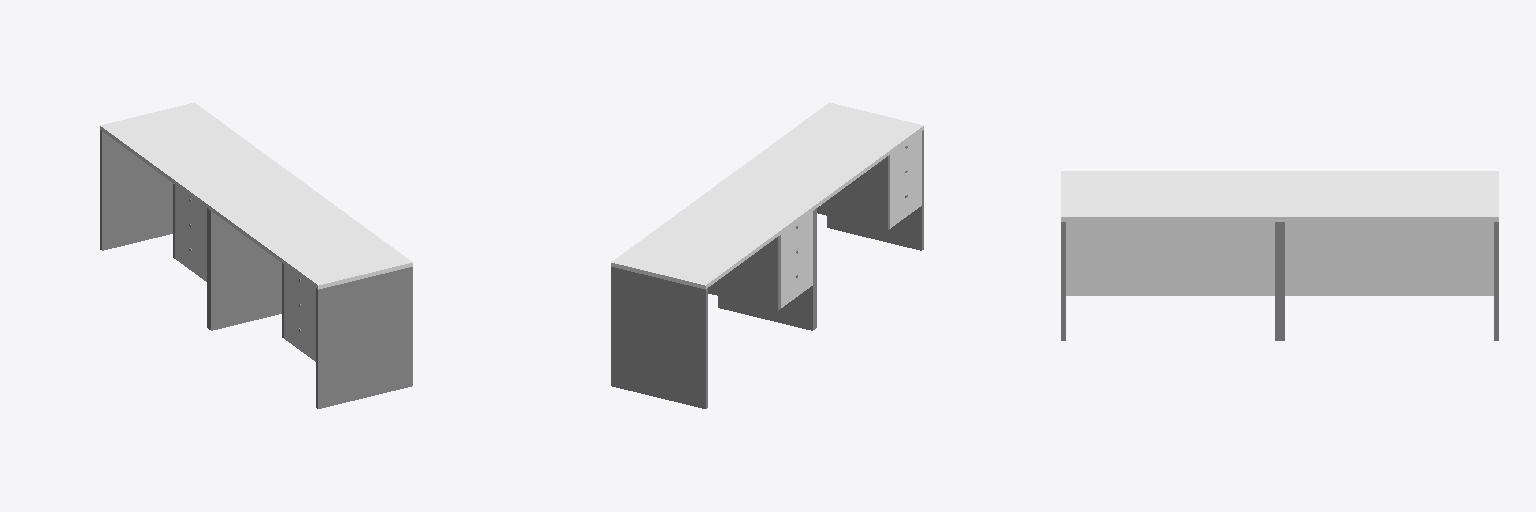
The model's file is longdesk.obj.
3 views of the same model, side by side, from view 1: azimuth 30°, elevation 25°; view 2: azimuth 150°, elevation 25°; view 3: azimuth 270°, elevation 25° (orthographic).
Visible parts, largest first — view 1: Mesh4 Group1 Model, Mesh8 Group2 Model; view 2: Mesh8 Group2 Model, Mesh4 Group1 Model; view 3: Mesh4 Group1 Model, Mesh8 Group2 Model.
Part boxes in pixels (x1,y1,x2,y2): Mesh4 Group1 Model: (209,183,412,408); Mesh8 Group2 Model: (100,102,303,328); Mesh8 Group2 Model: (611,183,814,408); Mesh4 Group1 Model: (720,102,923,328); Mesh4 Group1 Model: (1061,171,1279,340); Mesh8 Group2 Model: (1280,171,1498,340).
Bounding box in the file's own units: 0.6159 × 0.762 × 2.44.